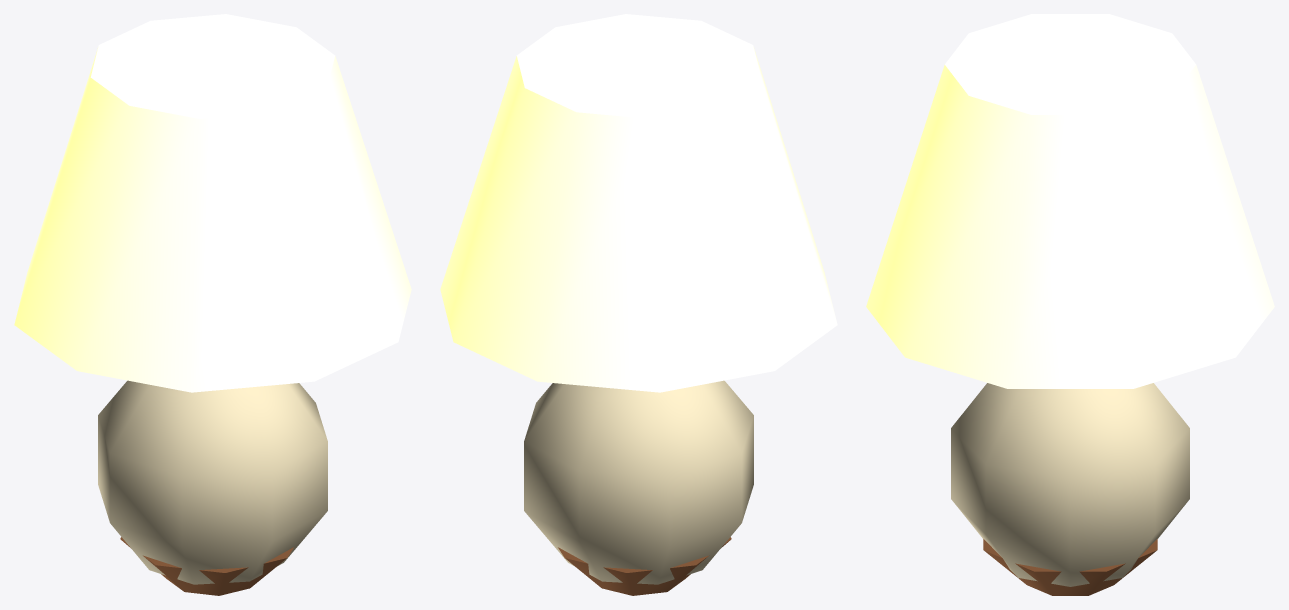
The model's file is bedside_lamp.glb.
The picture shows the model from 3 angles, left to right: view 1: azimuth 30°, elevation 25°; view 2: azimuth 150°, elevation 25°; view 3: azimuth 270°, elevation 25°; orthographic projection.
Visible parts, largest first — view 1: bedside_lamp; view 2: bedside_lamp; view 3: bedside_lamp.
Boxes of the visible parts, x1=… form: bedside_lamp: x1=14, y1=14, x2=411, y2=595; bedside_lamp: x1=440, y1=14, x2=837, y2=595; bedside_lamp: x1=866, y1=14, x2=1274, y2=595.
Bounding box in the file's own units: 0.2473 × 0.36 × 0.26.
Materials: 2 (2 with a texture image).
